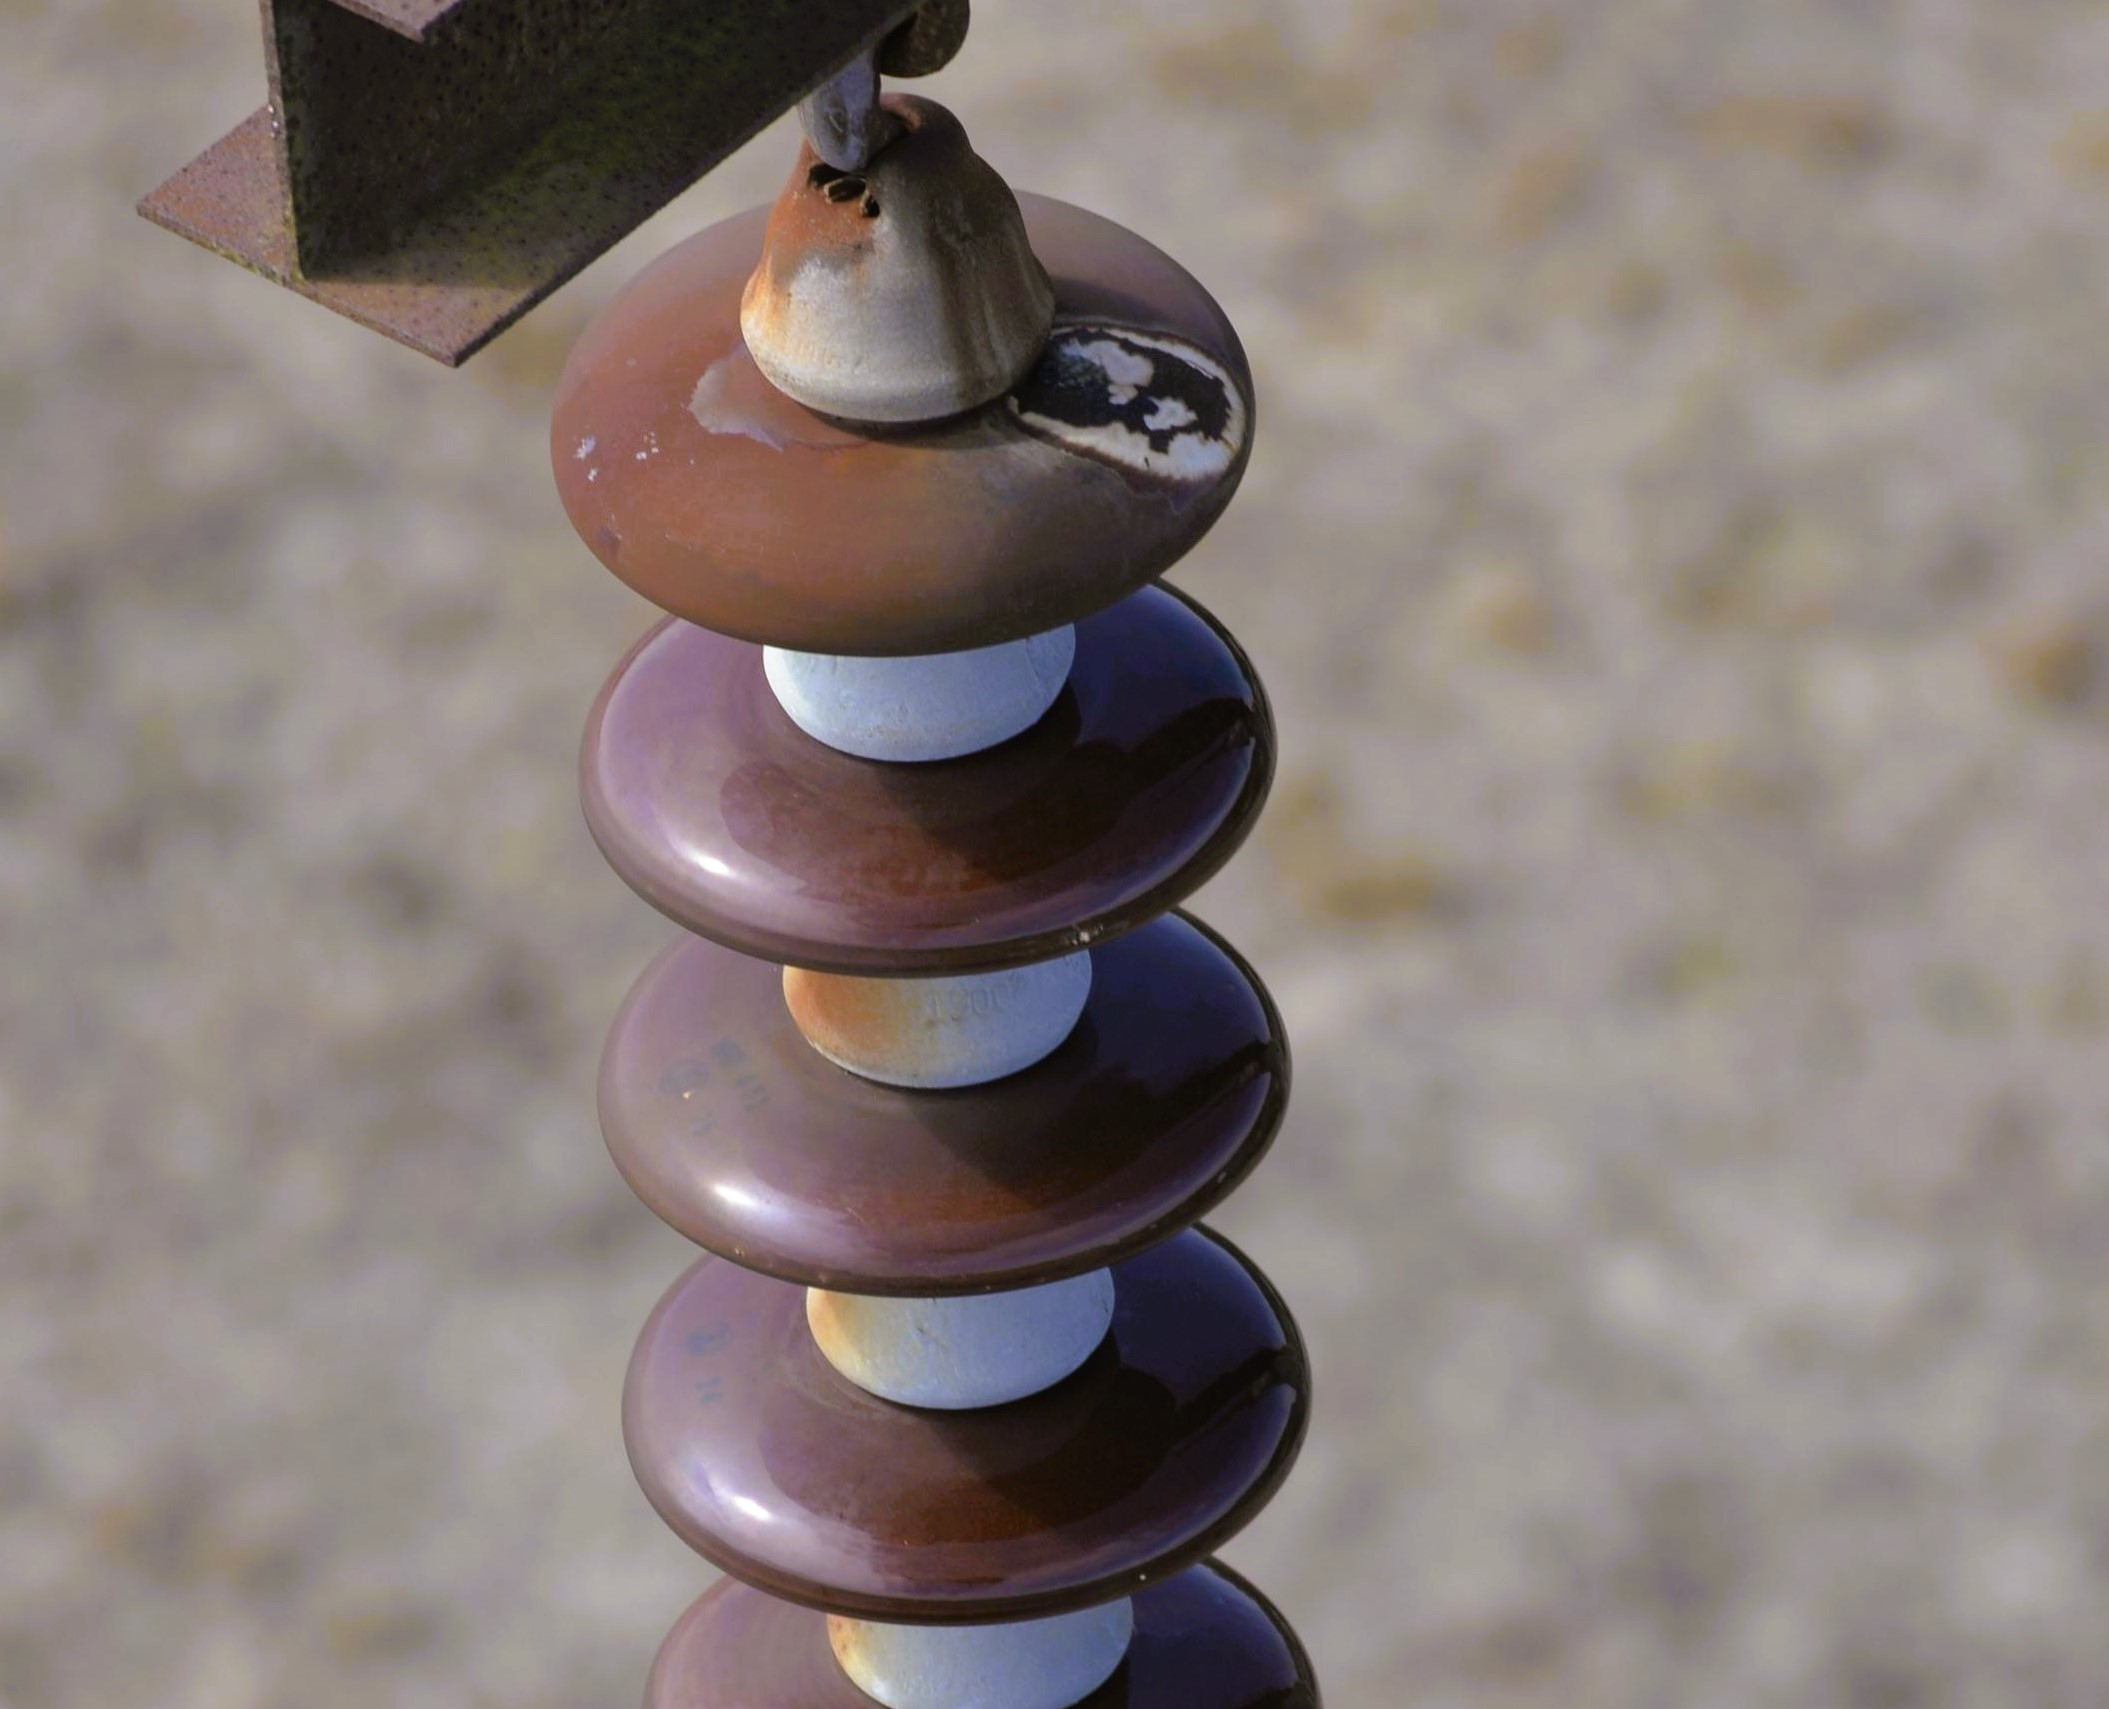Insulator flashover: (515, 162, 1279, 666)
